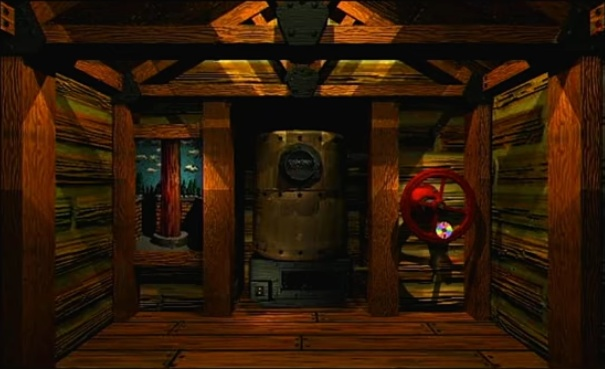Waiting: (433, 219, 456, 240)
